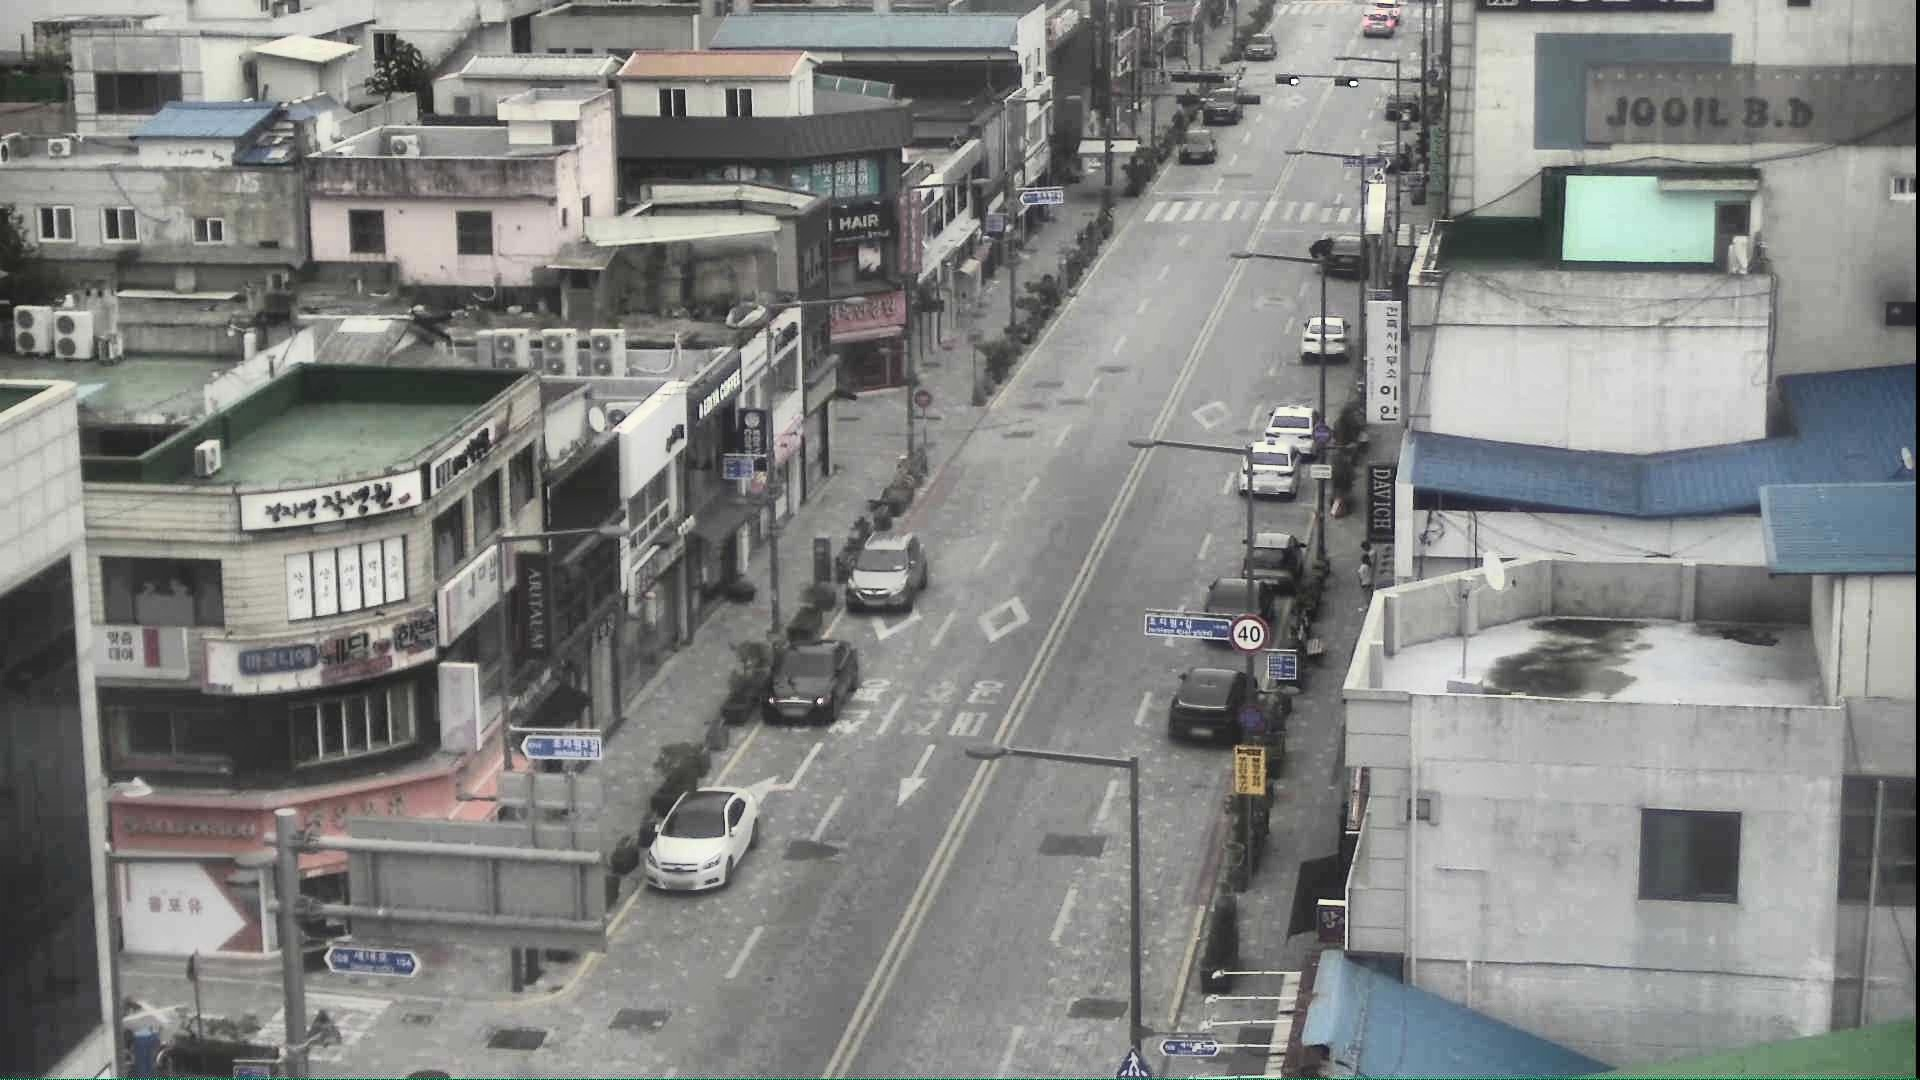sidewalk: (1354, 552, 1375, 610), (1359, 537, 1379, 585)
